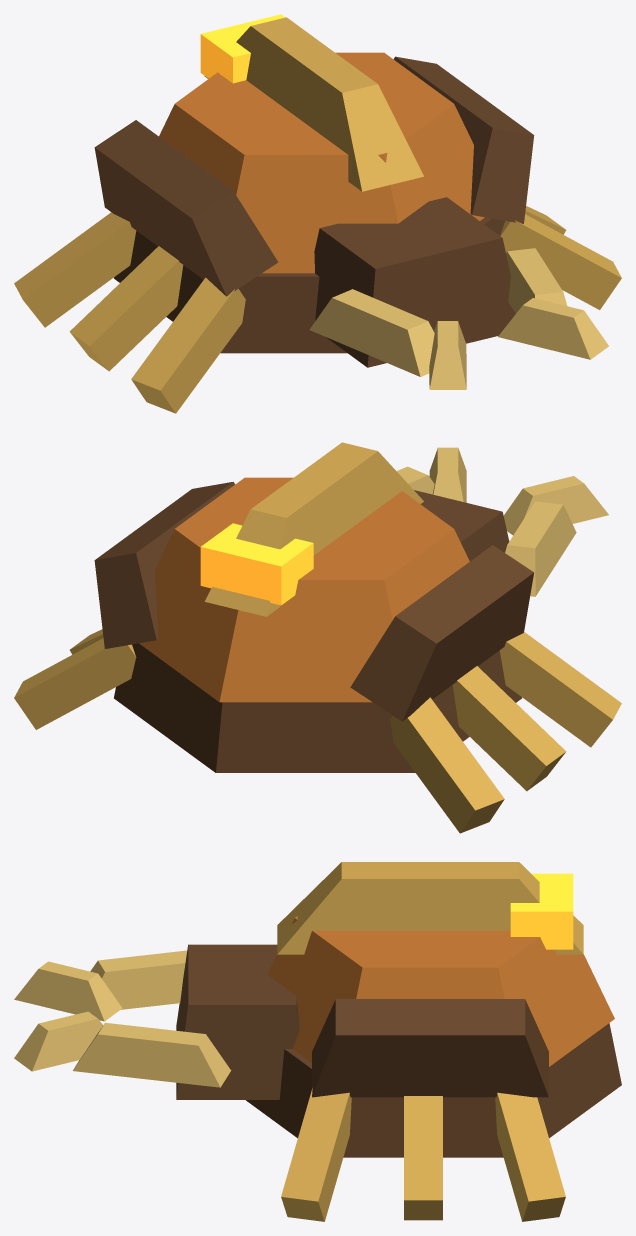
The model's file is scarabee_cuirasse.glb.
3 views of the same model, one above another, from view 1: azimuth 30°, elevation 25°; view 2: azimuth 150°, elevation 25°; view 3: azimuth 270°, elevation 25° (orthographic). The views are drawn at different scales.
Visible parts, largest first — view 1: scarabee_cuirasse; view 2: scarabee_cuirasse; view 3: scarabee_cuirasse.
Boxes of the visible parts, left/top/right/bottom form: scarabee_cuirasse: left=14, top=14, right=621, bottom=413; scarabee_cuirasse: left=14, top=442, right=621, bottom=833; scarabee_cuirasse: left=14, top=862, right=621, bottom=1221.
Bounding box in the file's own units: 0.7766 × 0.3898 × 0.873.
